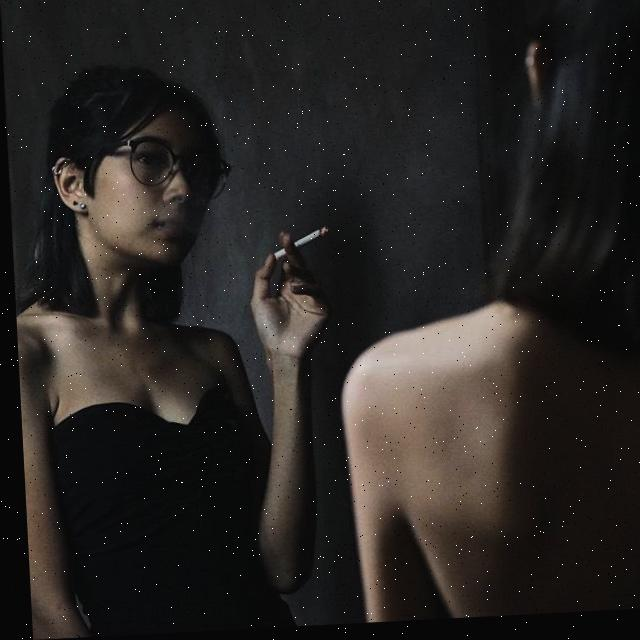cigarette: (270, 229, 327, 263)
